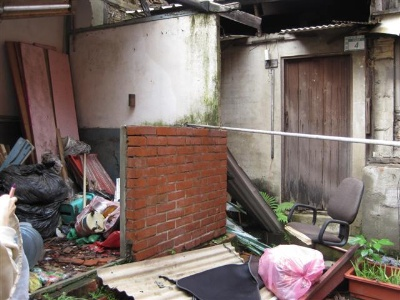plastic_bag: (257, 243, 326, 300), (1, 160, 63, 203), (15, 204, 61, 240)
